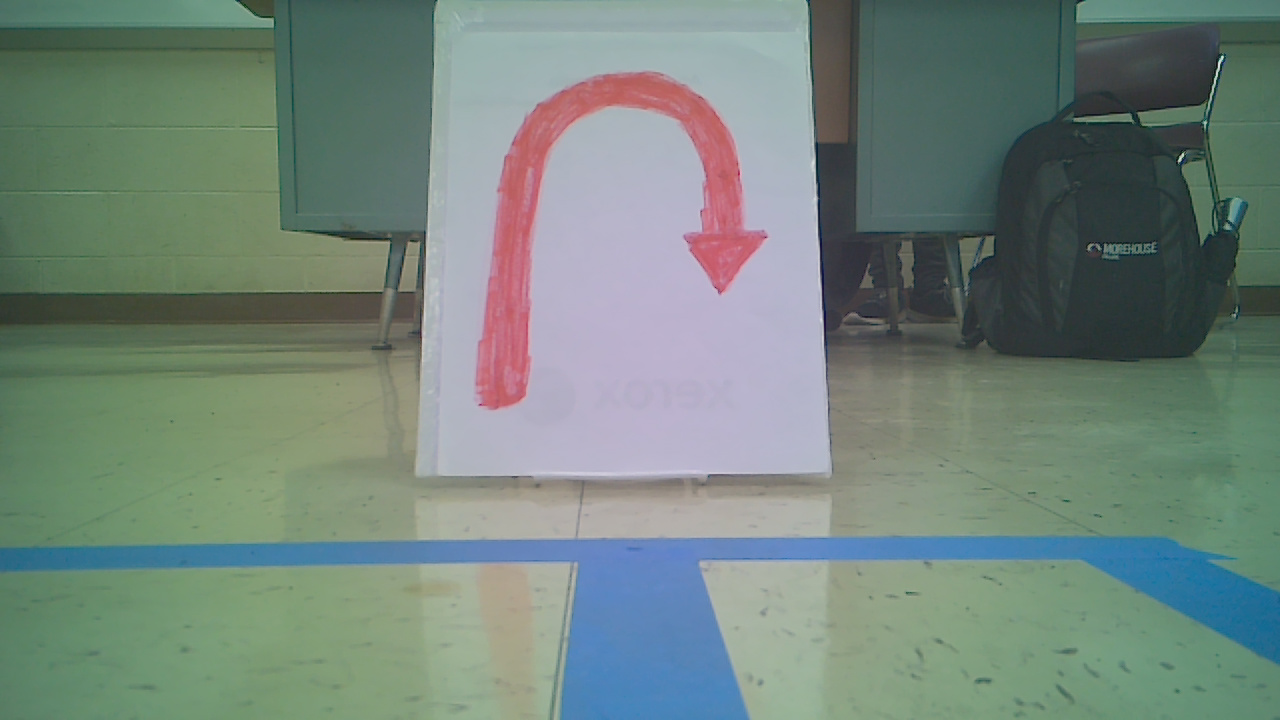uturn: (467, 68, 770, 411)
